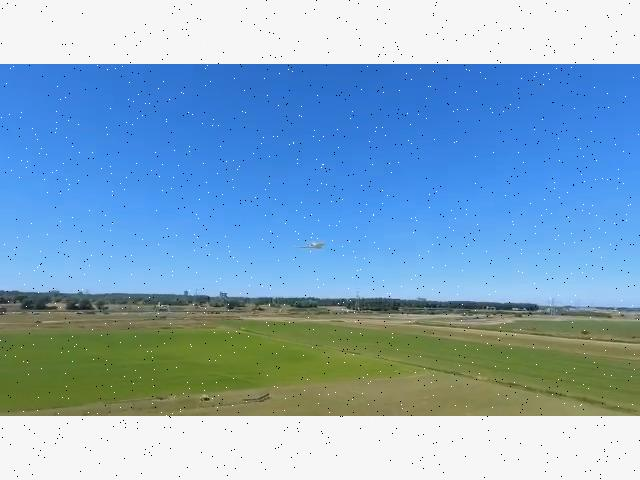Anti-Drone: (286, 230, 338, 258)
